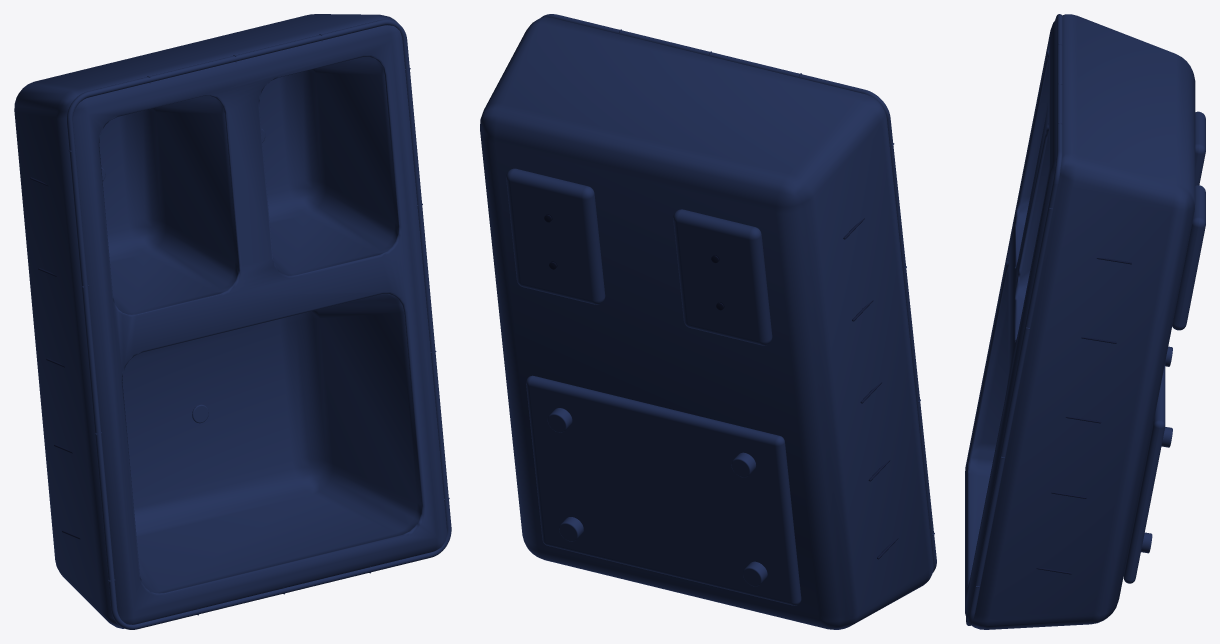
The model's file is lunchbox-tray-navy.glb.
3 renders of one model, left to right at view 1: azimuth 30°, elevation 25°; view 2: azimuth 150°, elevation 25°; view 3: azimuth 270°, elevation 25°, orthographic. The views are drawn at different scales.
Parts seen in each view (by area): view 1: lunchbox-tray-navy-body, lunchbox-tray-navy-rolled-outer-lip; view 2: lunchbox-tray-navy-body, lunchbox-tray-navy-underside-plate, lunchbox-tray-navy-underside-pad--1, lunchbox-tray-navy-underside-pad-1, lunchbox-tray-navy-rolled-outer-lip; view 3: lunchbox-tray-navy-body, lunchbox-tray-navy-rolled-outer-lip, lunchbox-tray-navy-underside-plate, lunchbox-tray-navy-underside-pad-1, lunchbox-tray-navy-underside-pad--1.
Part boxes in pixels (left/top/right/bottom): lunchbox-tray-navy-body: left=14, top=14, right=446, bottom=628; lunchbox-tray-navy-rolled-outer-lip: left=67, top=19, right=451, bottom=629; lunchbox-tray-navy-body: left=480, top=17, right=933, bottom=629; lunchbox-tray-navy-underside-plate: left=526, top=375, right=801, bottom=605; lunchbox-tray-navy-underside-pad--1: left=673, top=209, right=772, bottom=345; lunchbox-tray-navy-underside-pad-1: left=506, top=168, right=605, bottom=304; lunchbox-tray-navy-rolled-outer-lip: left=540, top=14, right=936, bottom=572; lunchbox-tray-navy-body: left=965, top=14, right=1195, bottom=629; lunchbox-tray-navy-rolled-outer-lip: left=966, top=14, right=1062, bottom=625; lunchbox-tray-navy-underside-plate: left=1123, top=363, right=1165, bottom=583; lunchbox-tray-navy-underside-pad-1: left=1172, top=185, right=1205, bottom=330; lunchbox-tray-navy-underside-pad--1: left=1195, top=111, right=1205, bottom=185.
Bounding box in the file's own units: 1.67 × 2.36 × 1.08.
